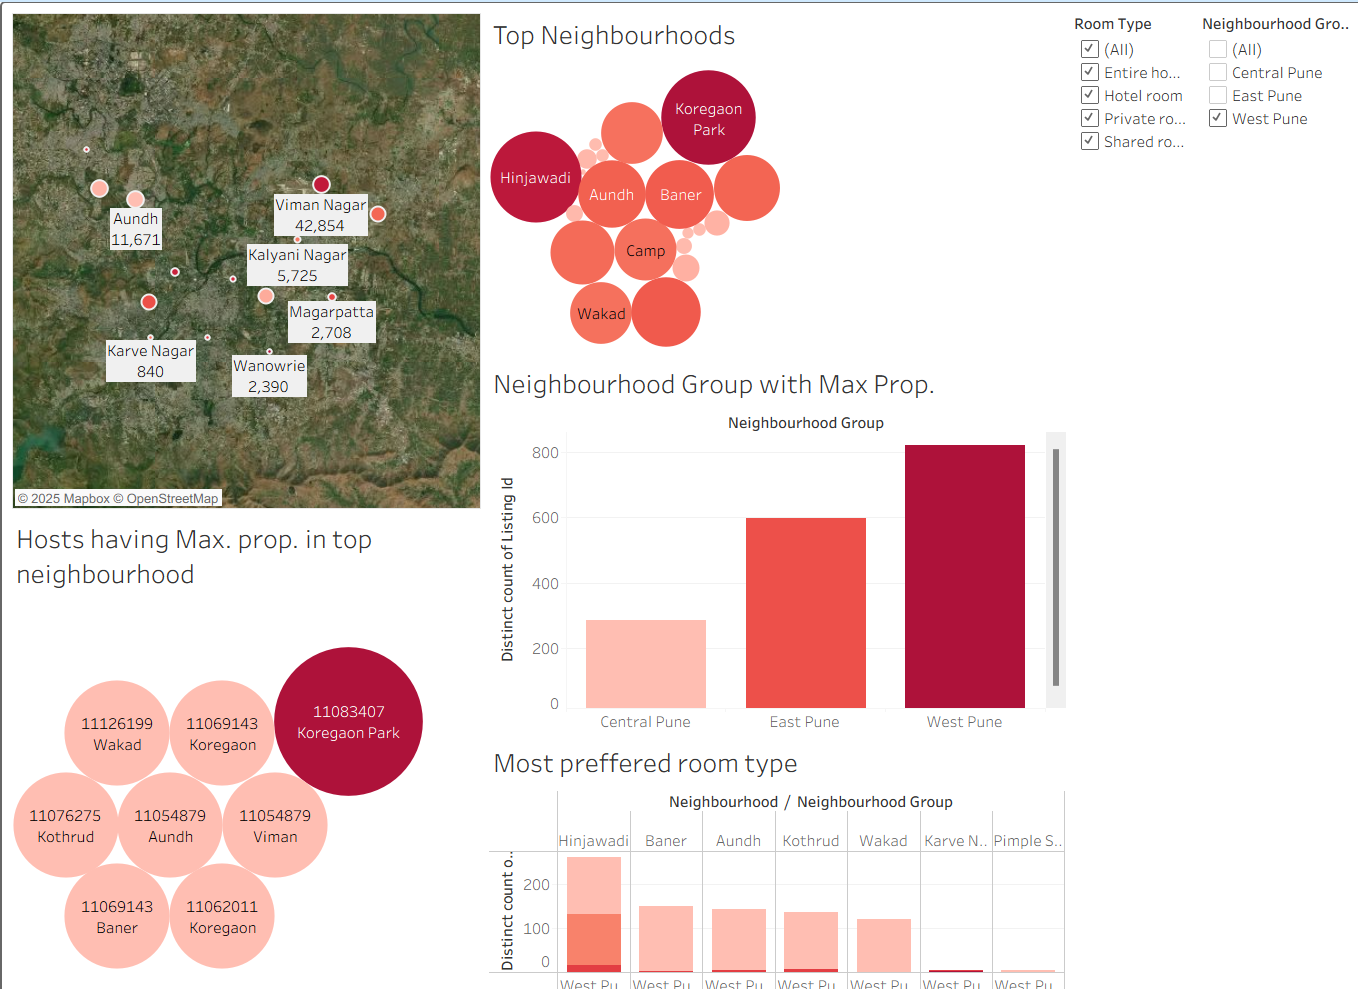

What the dashboard file says about the page in this screenshot:
{"tool":"tableau","page":{"name":"Dashboard 3","canvas":[1000,1000],"units":"permille","ordinal":2},"visuals":[{"type":"worksheet","title":"Sheet 1","mark":"Circle","rows":["latitude"],"cols":["longitude"],"box":[5.9,7.8,349.3,492.1]},{"type":"worksheet","title":"Top Neighbourhoods","mark":"Circle","box":[355.2,7.8,428.3,340.8]},{"type":"filter","title":"Sheet 1","param":"[federated.1m19ni1038zj8x18p1bd40os0qli].[none:room_type:nk]","box":[783.4,7.8,93.6,984.4]},{"type":"filter","title":"Sheet 18","param":"[federated.1m19ni1038zj8x18p1bd40os0qli].[Neighbourhood (group)]","box":[877,7.8,117.1,125]},{"type":"worksheet","title":"Sheet 10","mark":"Automatic","rows":["listing_id"],"box":[355.2,348.6,428.3,370.1]},{"type":"worksheet","title":"Sheet 11","mark":"Circle","box":[5.9,499.9,349.3,492.3]},{"type":"worksheet","title":"Sheet 18","mark":"Automatic","rows":["listing_id"],"cols":["neighbourhood"],"box":[355.2,718.7,428.3,273.4]}]}

Visuals, with their boxes on the dashboard's canvas, which has no fixed pixel size, in thousandths of its width and height (x1, y1, x2, y2). These are canvas units, not pixel positions in the 1358x989 screenshot, which may show the page scaled, cropped or inside an application window:
"Sheet 1" worksheet (Circle marks): (6,8,355,500)
"Top Neighbourhoods" worksheet (Circle marks): (355,8,784,349)
"Sheet 1" filter: (783,8,877,992)
"Sheet 18" filter: (877,8,994,133)
"Sheet 10" worksheet: (355,349,784,719)
"Sheet 11" worksheet (Circle marks): (6,500,355,992)
"Sheet 18" worksheet: (355,719,784,992)
